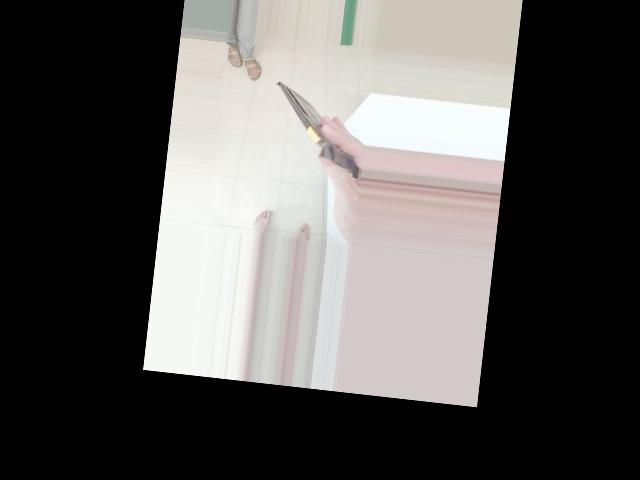chocolate: (226, 88, 331, 190)
